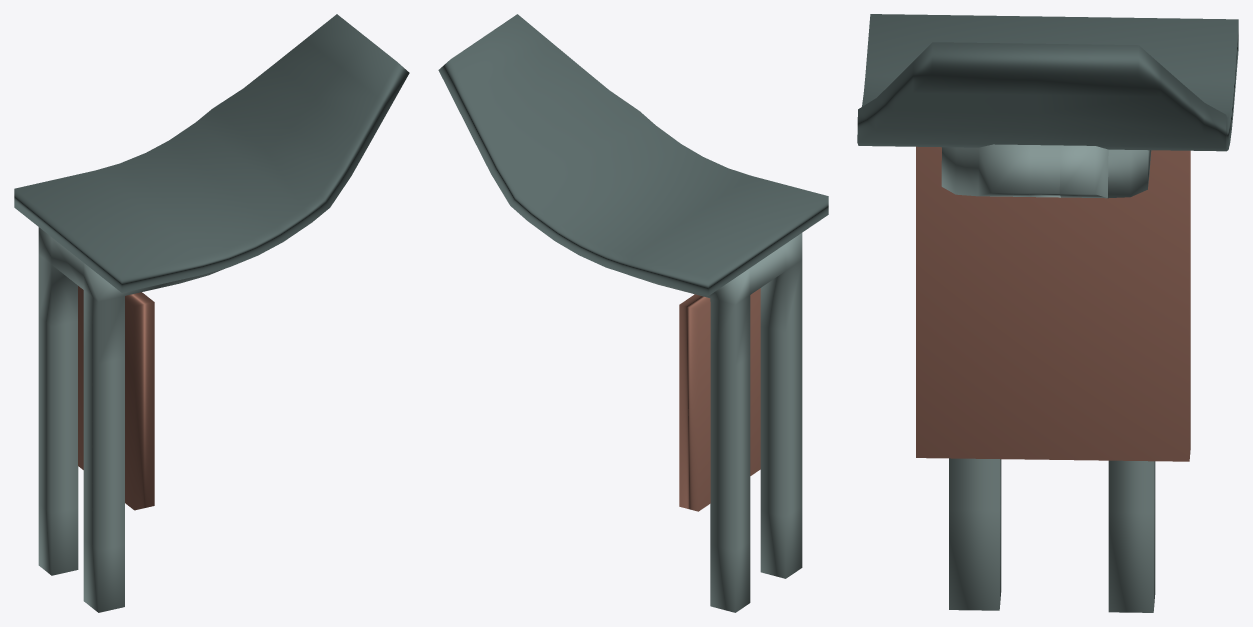
The model's file is McWilderbeest_4.fbx.
3 views of the same model, side by side, from view 1: azimuth 30°, elevation 25°; view 2: azimuth 150°, elevation 25°; view 3: azimuth 270°, elevation 25° (orthographic). The views are drawn at different scales.
Visible parts, largest first — view 1: McWilderbeest_4; view 2: McWilderbeest_4; view 3: McWilderbeest_4.
Boxes of the visible parts, x1,y1,x2,y2 form: McWilderbeest_4: [14, 14, 409, 612]; McWilderbeest_4: [438, 14, 828, 612]; McWilderbeest_4: [857, 14, 1238, 612].
Bounding box in the file's own units: 211 × 314 × 139.
Materials: 1 (1 with a texture image).
